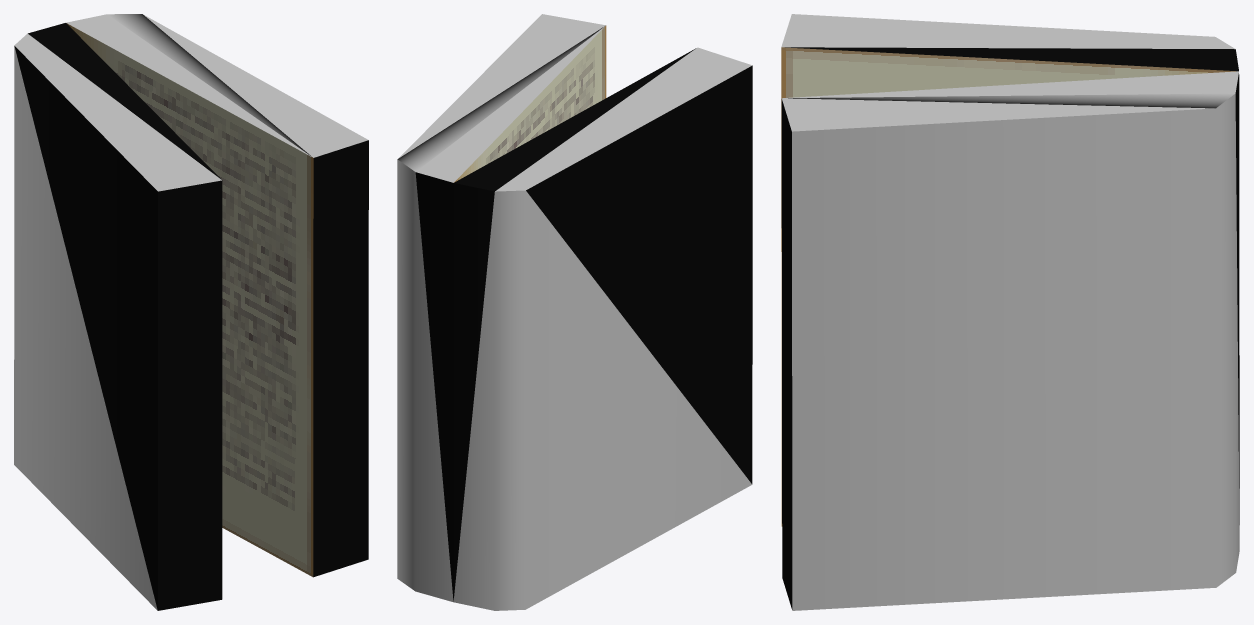
The model's file is only_book.fbx.
3 views of the same model, side by side, from view 1: azimuth 30°, elevation 25°; view 2: azimuth 150°, elevation 25°; view 3: azimuth 270°, elevation 25° (orthographic). The views are drawn at different scales.
Parts seen in each view (by area): view 1: mesh2, mesh3; view 2: mesh2, mesh3; view 3: mesh2, mesh3.
Boxes of the visible parts, x1=… form: mesh2: x1=14, y1=14, x2=368, y2=610; mesh3: x1=66, y1=23, x2=313, y2=576; mesh2: x1=397, y1=14, x2=752, y2=610; mesh3: x1=454, y1=25, x2=606, y2=182; mesh2: x1=781, y1=14, x2=1239, y2=610; mesh3: x1=781, y1=47, x2=1235, y2=526.
Bounding box in the file's own units: 10.68 × 20.33 × 17.6.
